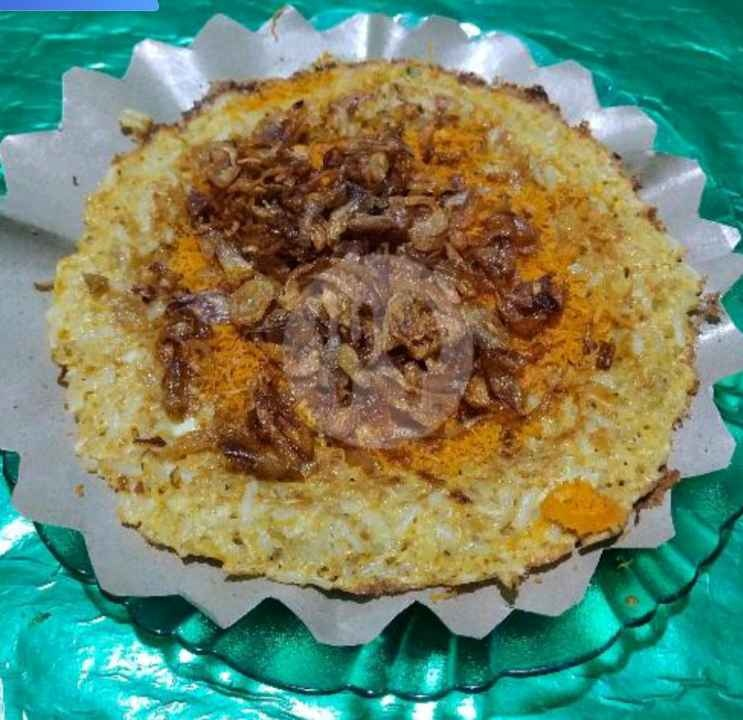kerak_telor: (45, 59, 707, 600)
